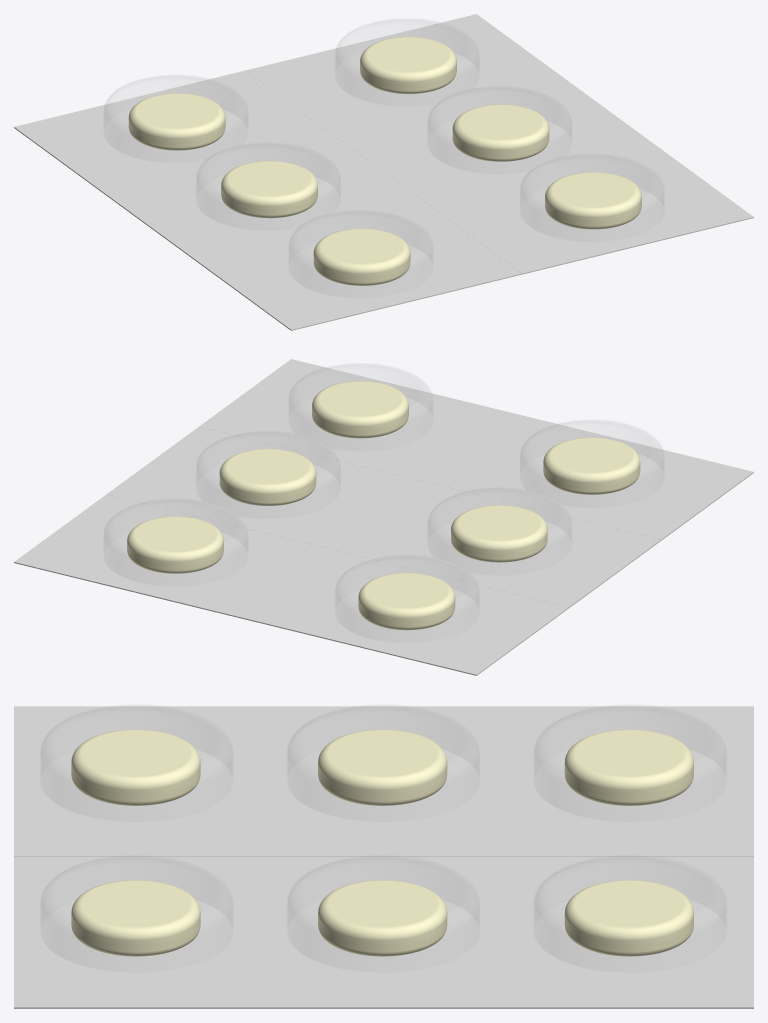
File: Round_Pill_2x3_Beige.glb
3 views of the same model, one above another, from view 1: azimuth 30°, elevation 25°; view 2: azimuth 150°, elevation 25°; view 3: azimuth 270°, elevation 25° (orthographic). The views are drawn at different scales.
Parts seen in each view (by area): view 1: Round_Pill_Base_2x3, Round_Pill_2x3, Round_Pill_Shell_2x3, Round_Pill_Lid_2x3; view 2: Round_Pill_Base_2x3, Round_Pill_2x3, Round_Pill_Lid_2x3, Round_Pill_Shell_2x3; view 3: Round_Pill_Base_2x3, Round_Pill_2x3, Round_Pill_Shell_2x3, Round_Pill_Lid_2x3.
Boxes of the visible parts, x1=… form: Round_Pill_Base_2x3: x1=14, y1=14, x2=753, y2=330; Round_Pill_2x3: x1=128, y1=37, x2=641, y2=285; Round_Pill_Shell_2x3: x1=104, y1=19, x2=663, y2=264; Round_Pill_Lid_2x3: x1=103, y1=51, x2=664, y2=298; Round_Pill_Base_2x3: x1=14, y1=359, x2=753, y2=675; Round_Pill_2x3: x1=127, y1=381, x2=640, y2=630; Round_Pill_Lid_2x3: x1=103, y1=397, x2=664, y2=643; Round_Pill_Shell_2x3: x1=104, y1=363, x2=663, y2=609; Round_Pill_Base_2x3: x1=14, y1=706, x2=753, y2=1008; Round_Pill_2x3: x1=71, y1=729, x2=693, y2=956; Round_Pill_Shell_2x3: x1=41, y1=705, x2=725, y2=928; Round_Pill_Lid_2x3: x1=40, y1=749, x2=726, y2=972.
Size of the model in its own units: 6.8 by 0.4541 by 7.06.
